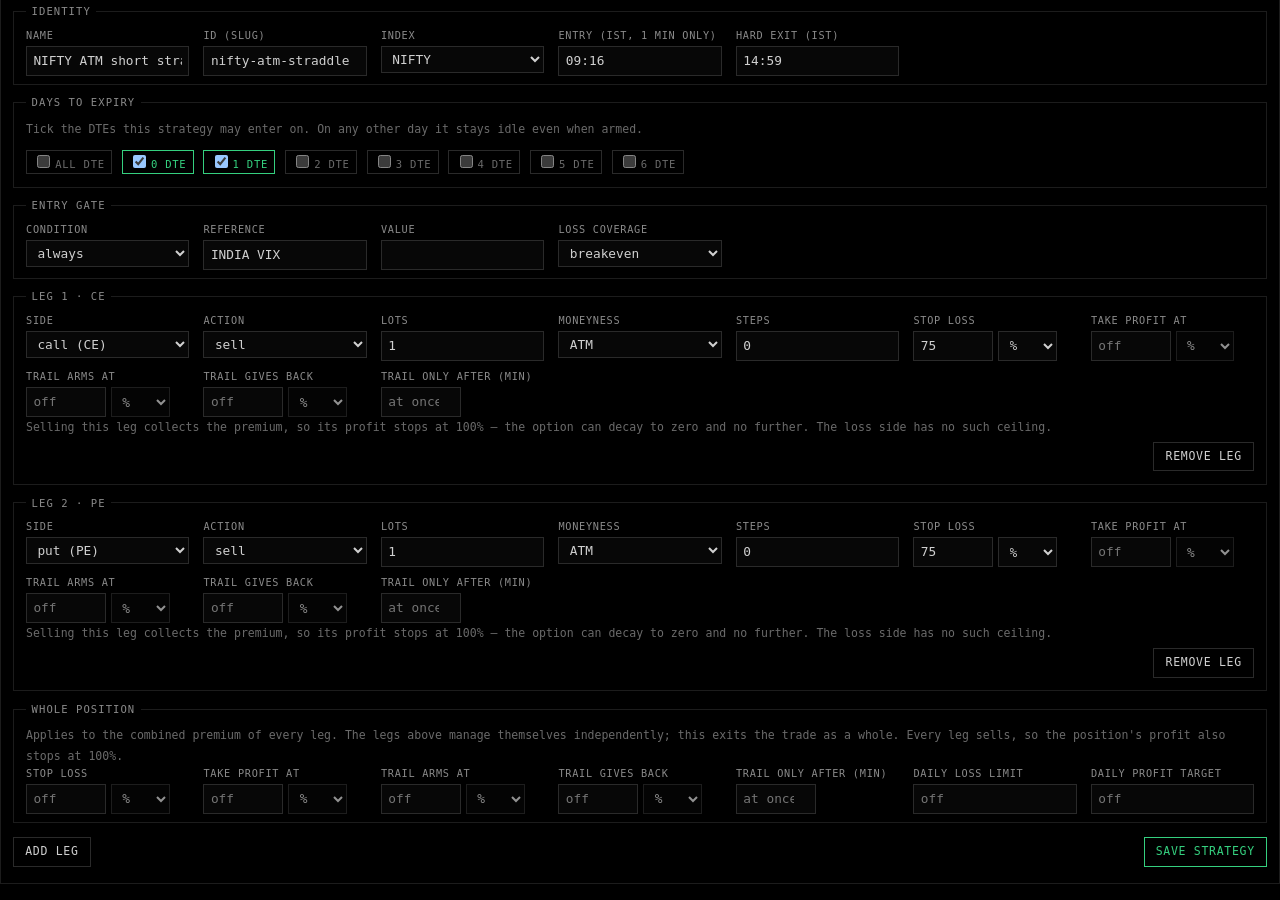
Test: rejection messages › names the whole position when a rejection has no leg
(page scrolled)
Click the button "save strategy" at x=1205, y=852, box [1144,837,1267,866]
(page scrolled)
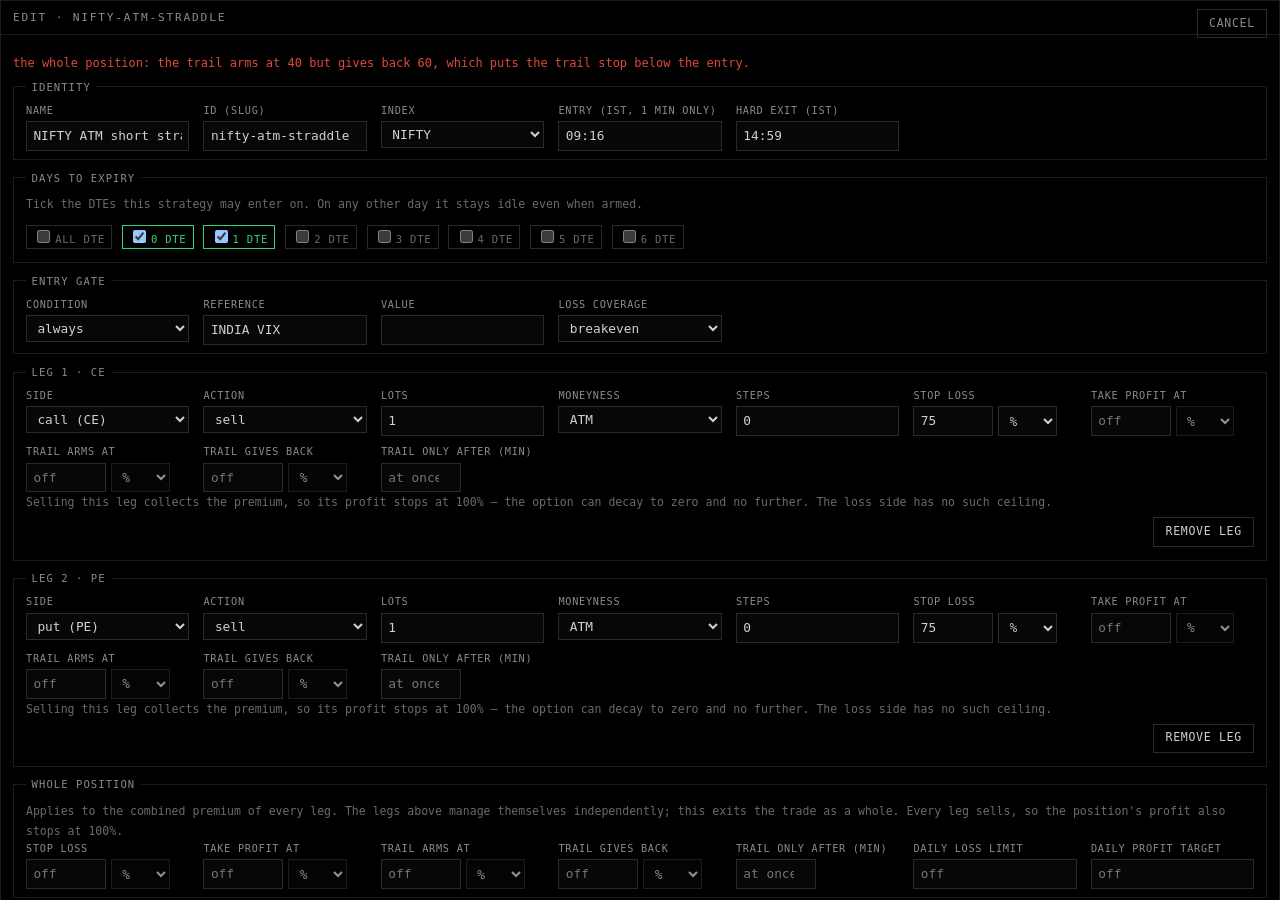
Expected: the text "the whole position: the trail arms at 40 but gives back 60" is shown, [13,56,750,70]
